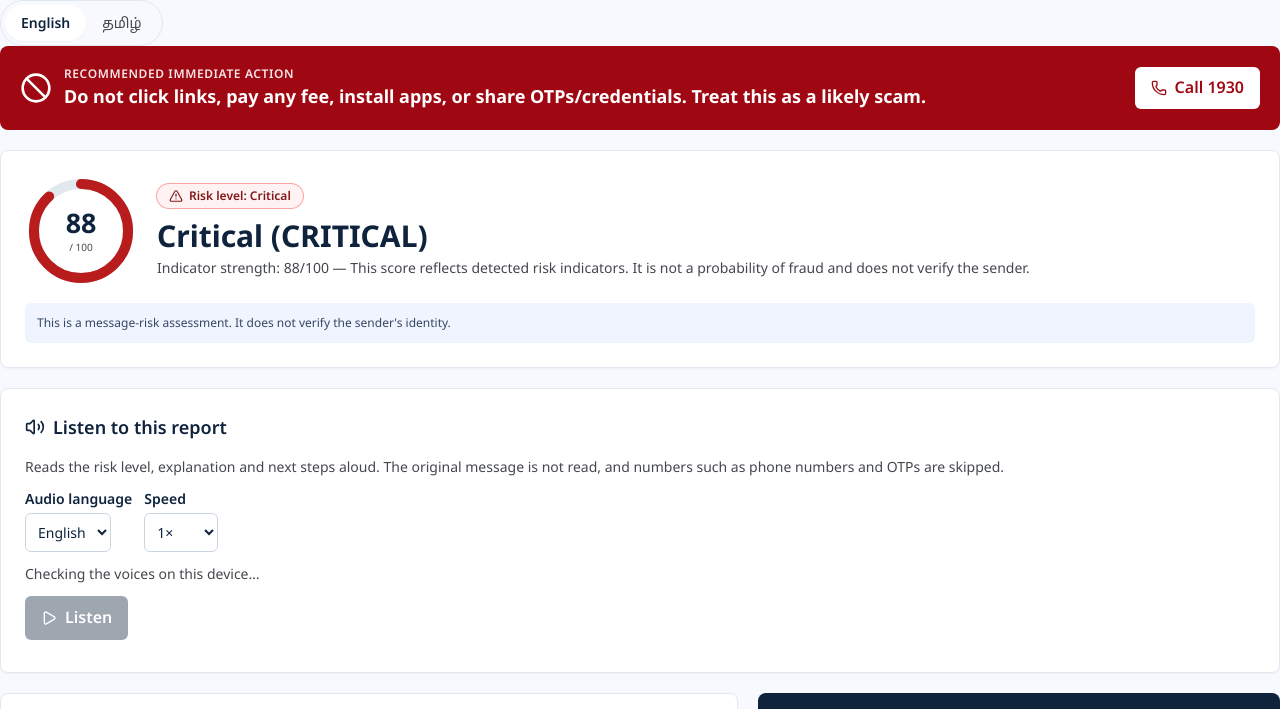
it: ProviderStatus and missing data › renders Phase 2 missing-data codes in both languages
Click the button "தமிழ்". click: (122, 23)
box: [86,5,158,41]
(page scrolled)
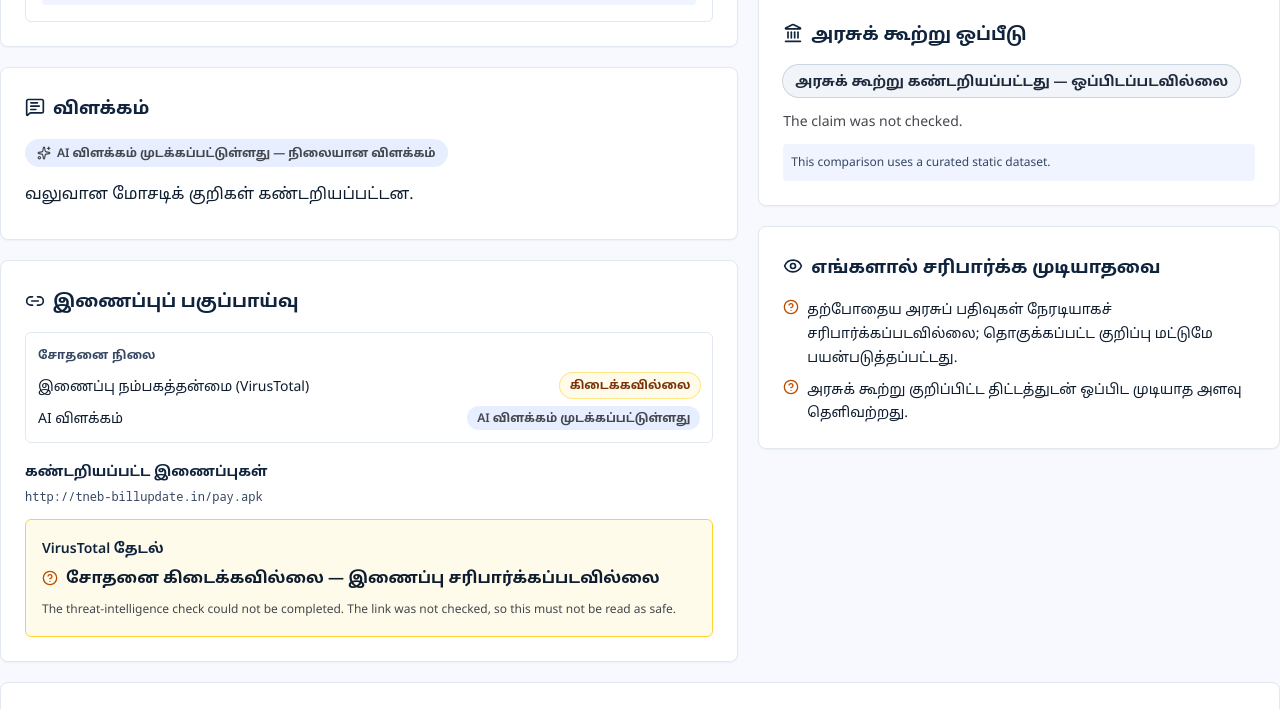
Expected: the list with test id "missing-data" shows "நேரடியாகச் சரிபார்க்கப்படவில்லை", [807,299,1213,366]
